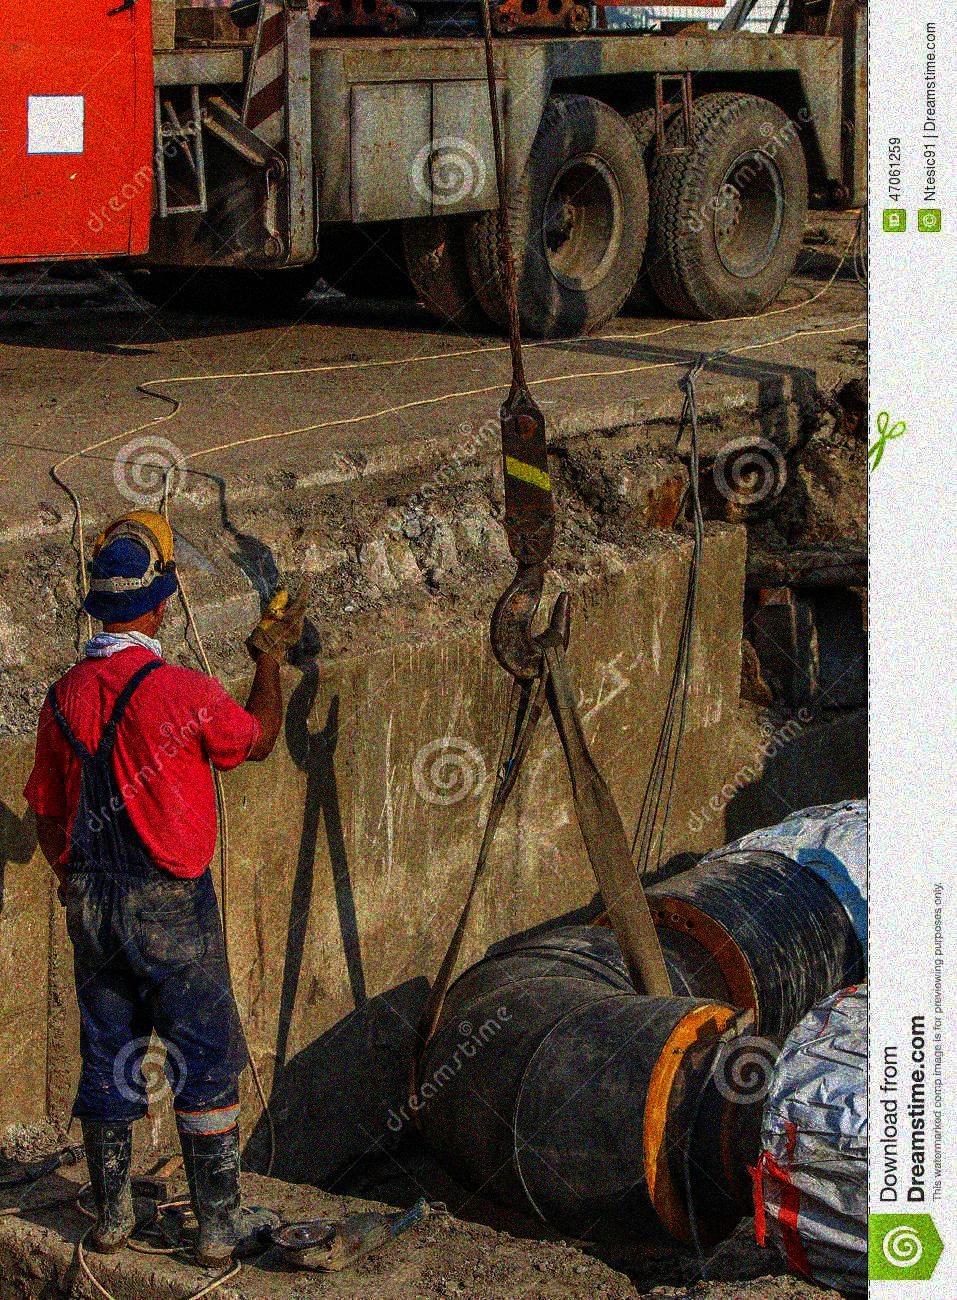helmet: (82, 528, 178, 638)
